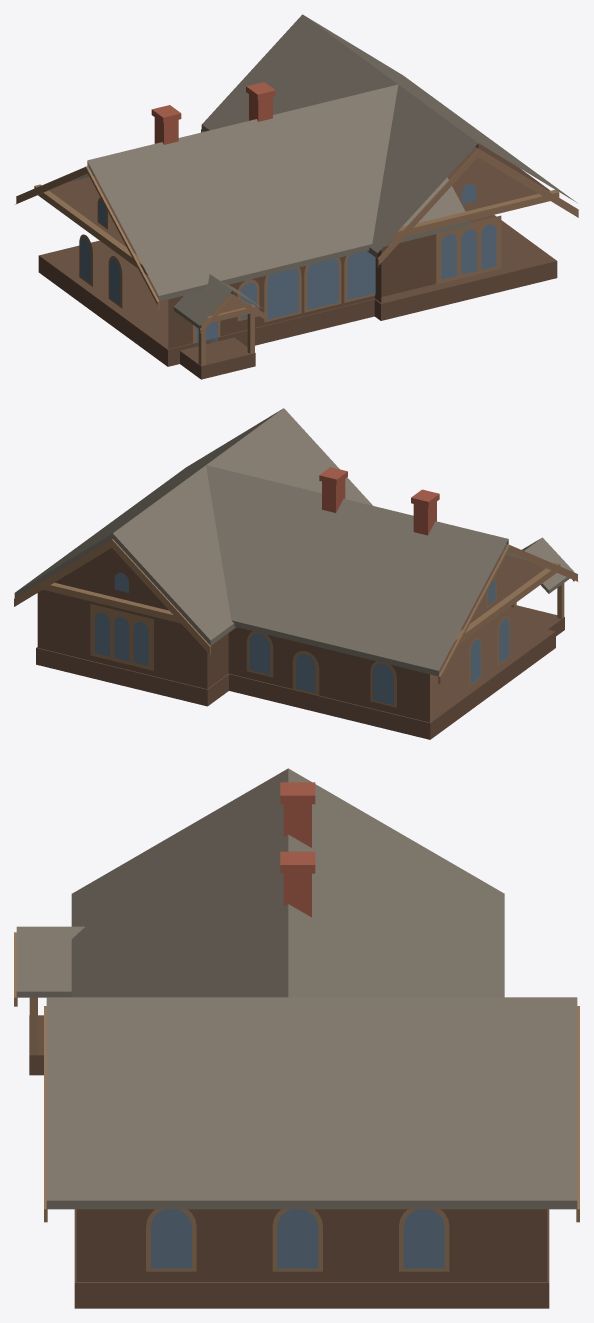
File: nyc-swedish-cottage.glb
3 renders of one model, top to bottom at view 1: azimuth 30°, elevation 25°; view 2: azimuth 150°, elevation 25°; view 3: azimuth 270°, elevation 25°, orthographic. The views are drawn at different scales.
Parts seen in each view (by area): view 1: Swedish Cottage; view 2: Swedish Cottage; view 3: Swedish Cottage.
Part boxes in pixels (bbox=[...]): Swedish Cottage: bbox=[15, 14, 578, 379]; Swedish Cottage: bbox=[14, 408, 578, 739]; Swedish Cottage: bbox=[14, 768, 579, 1308].
Size of the model in its own units: 22.78 by 10 by 17.91.
